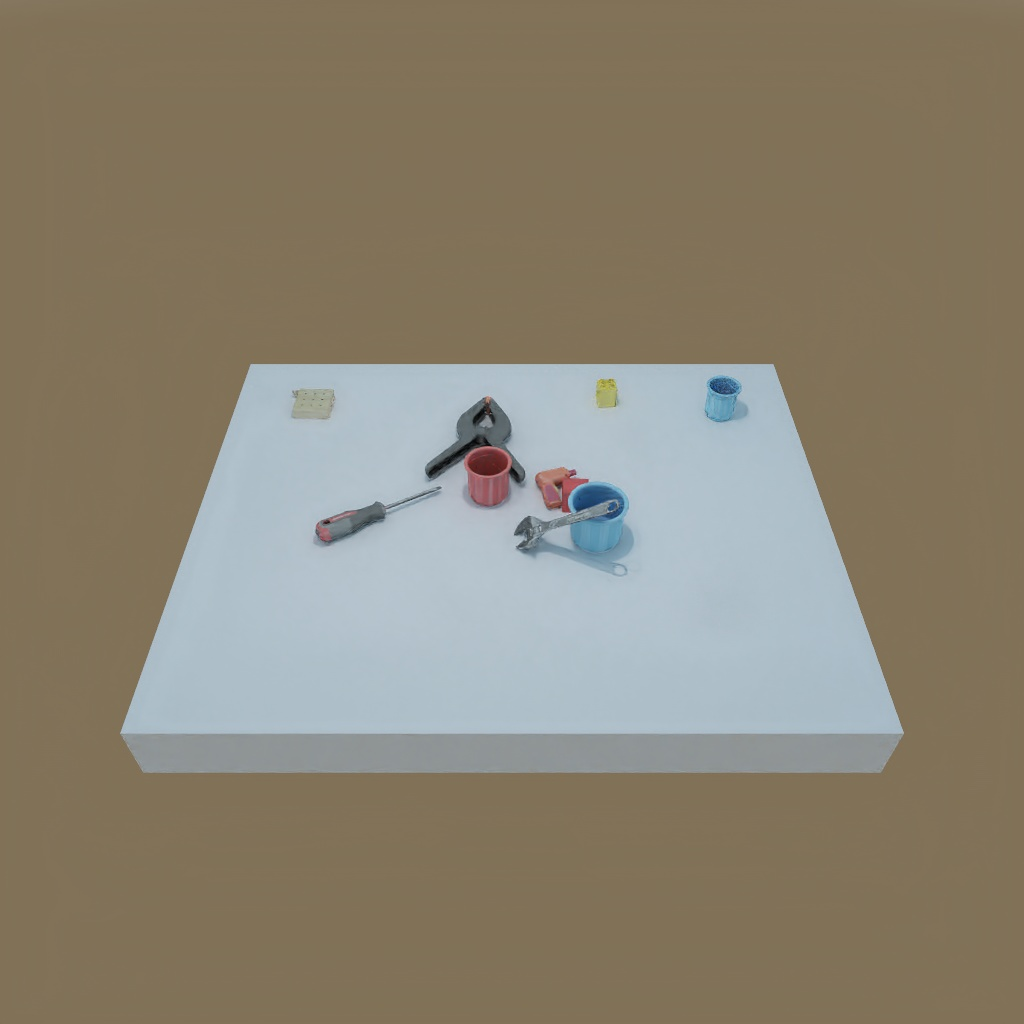nine_hole_peg_test: (283, 378, 339, 422)
